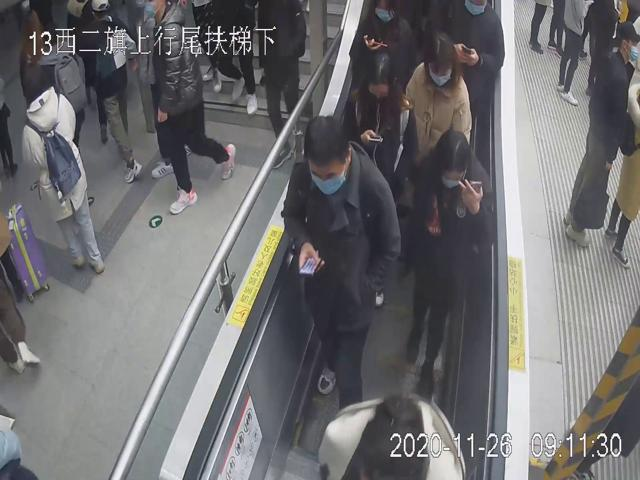person: (285, 115, 400, 416), (401, 126, 496, 402), (16, 59, 105, 276), (561, 21, 640, 250), (340, 52, 419, 214), (404, 30, 471, 156)
